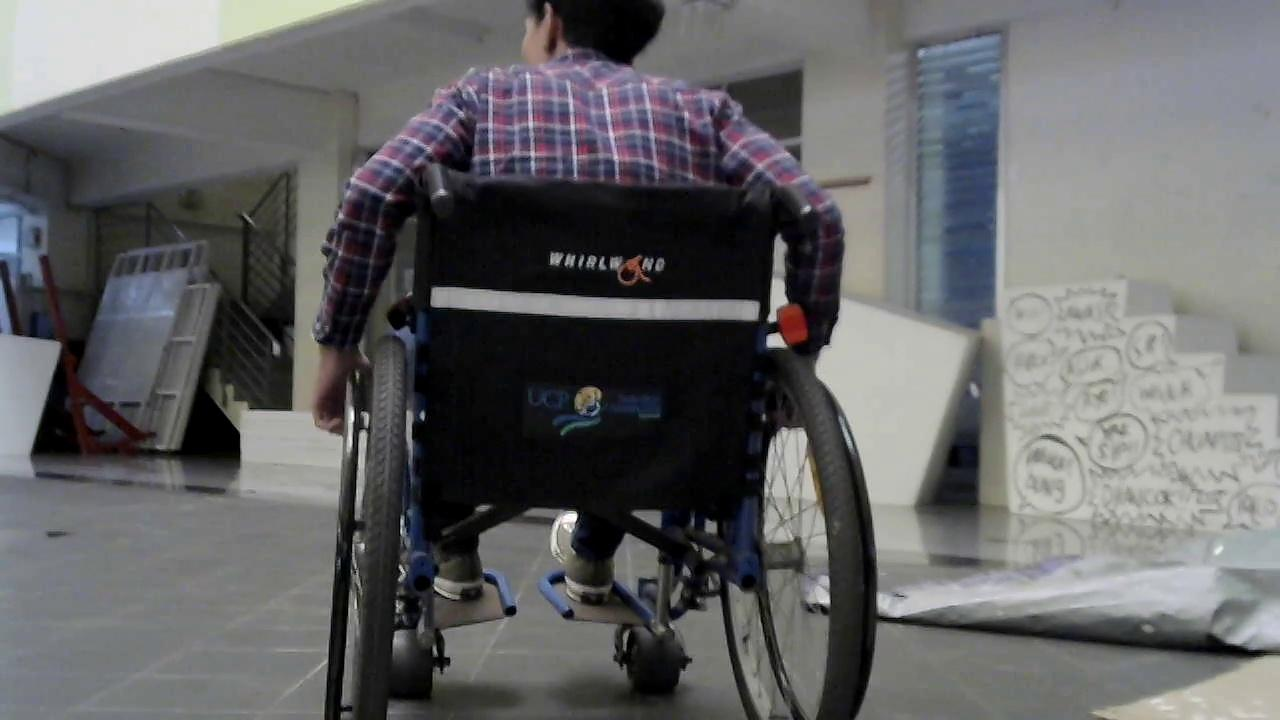person: (308, 4, 848, 707)
wheelchair: (302, 145, 896, 720)
